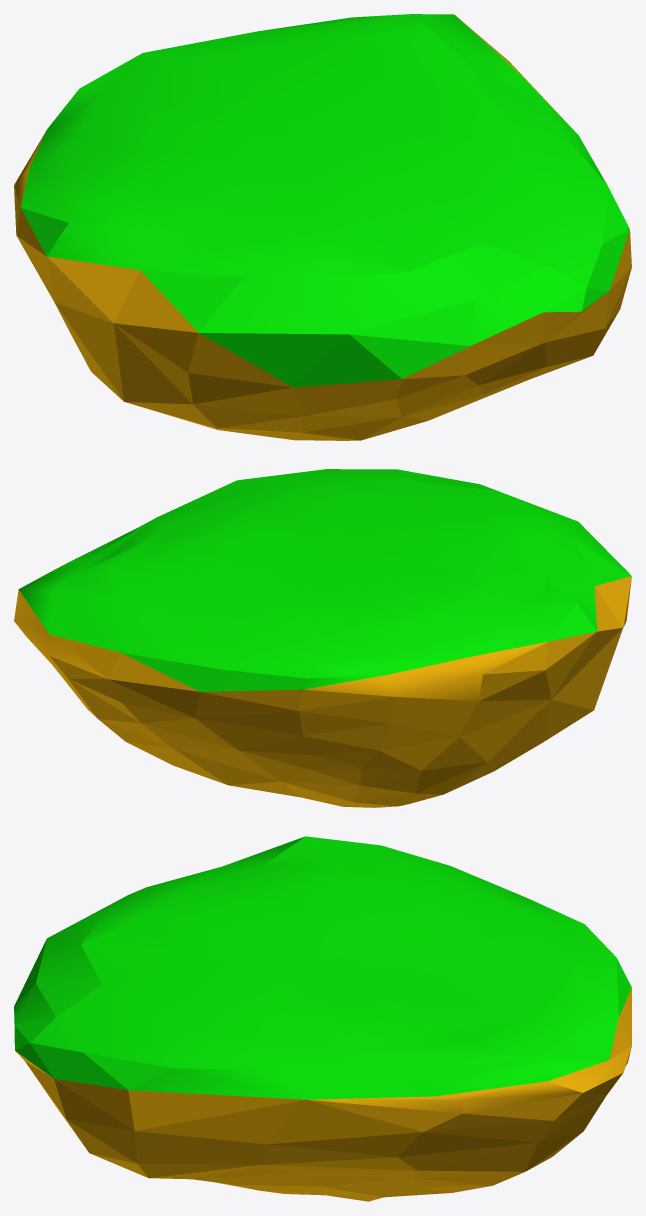
File: LandChunkD.fbx
3 views of the same model, one above another, from view 1: azimuth 30°, elevation 25°; view 2: azimuth 150°, elevation 25°; view 3: azimuth 270°, elevation 25° (orthographic). The views are drawn at different scales.
Visible parts, largest first — view 1: LandChunkD; view 2: LandChunkD; view 3: LandChunkD.
Boxes of the visible parts, <box> form: LandChunkD: <box>14,14,631,440</box>; LandChunkD: <box>14,469,631,807</box>; LandChunkD: <box>14,836,631,1201</box>.
Bounding box in the file's own units: 34.66 × 15.12 × 36.74.
